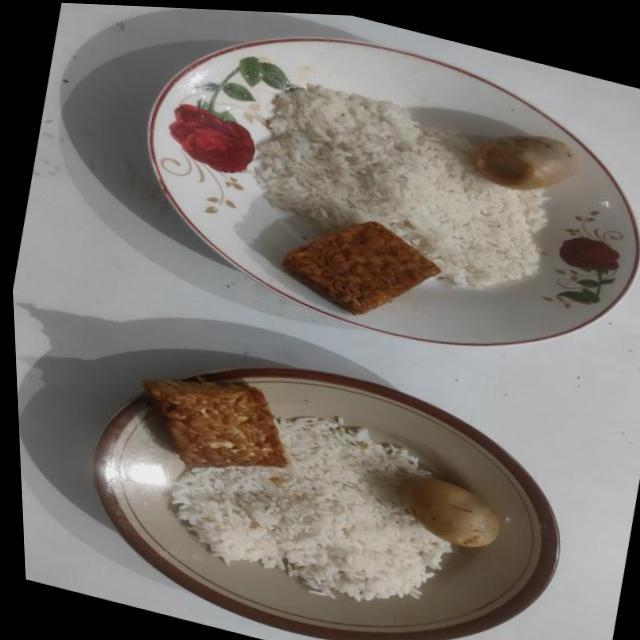nasi_putih: (256, 86, 546, 288), (172, 417, 452, 600)
tempe_goreng: (282, 222, 440, 314), (143, 378, 286, 468)
